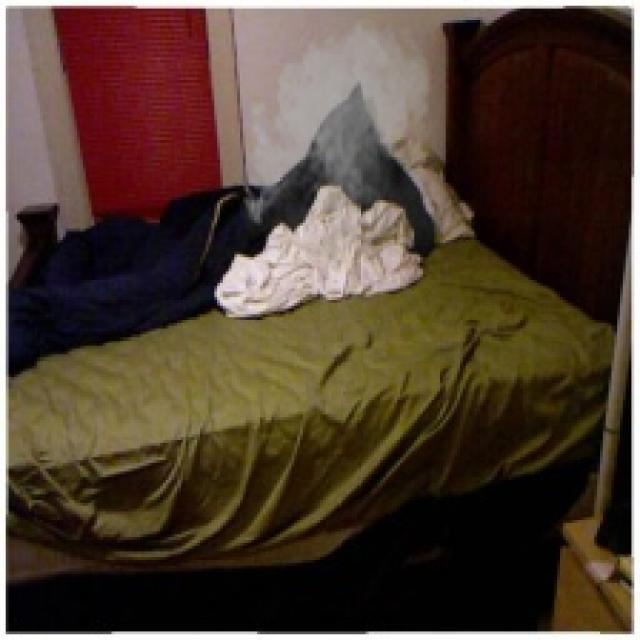Smoke: (237, 8, 437, 255)
